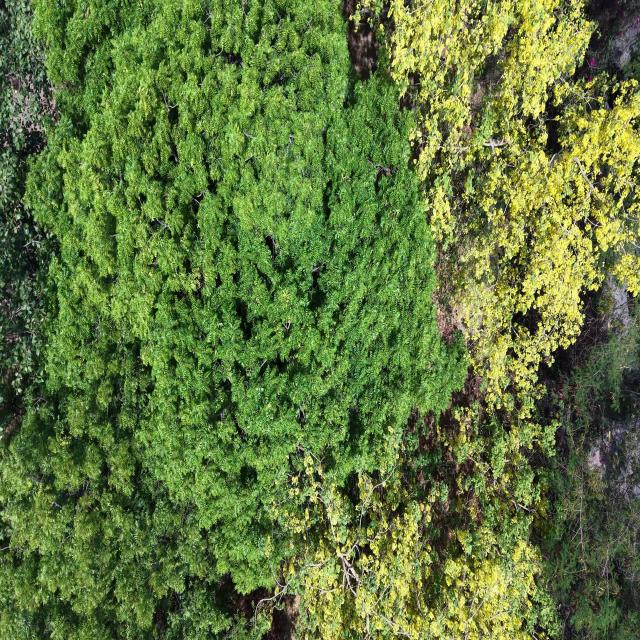VEGETATION_TREE: (0, 0, 639, 639), (2, 0, 466, 638), (379, 0, 639, 416), (534, 295, 639, 639), (0, 0, 56, 437)
